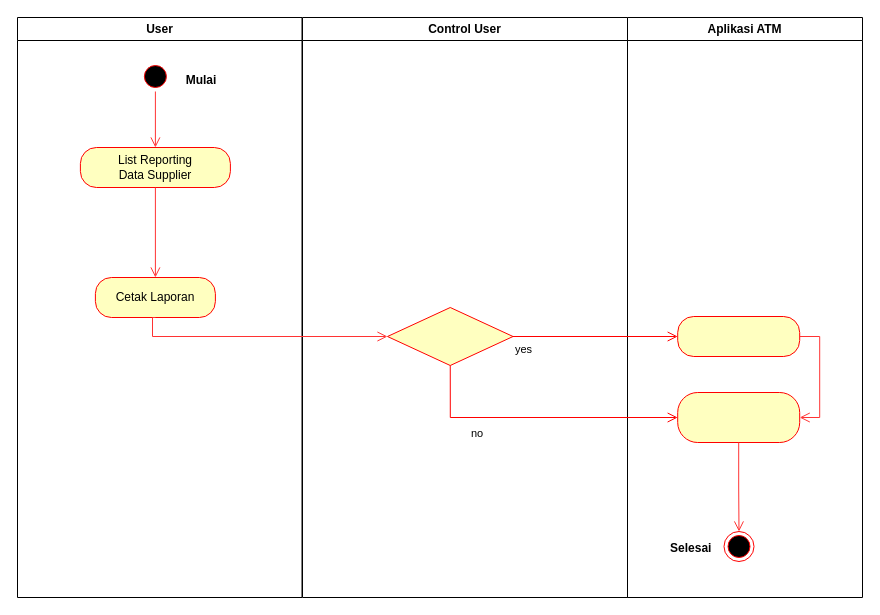
This 880x615 diagram has some shape labels left out. Each missing label, with the centre of its shape:
"Cetak" goes at [738,336].
"Menu Reporting Data Supplier" goes at [738,417].
"Print pdf" goes at [449,336].
